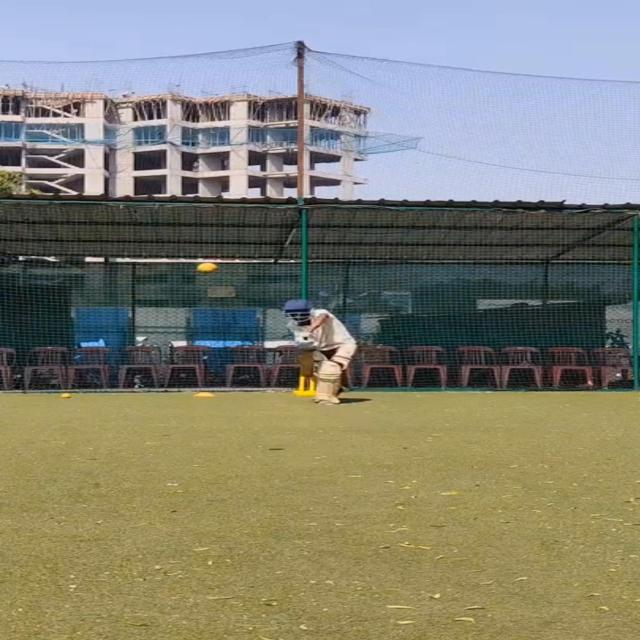ball: (198, 260, 220, 274)
